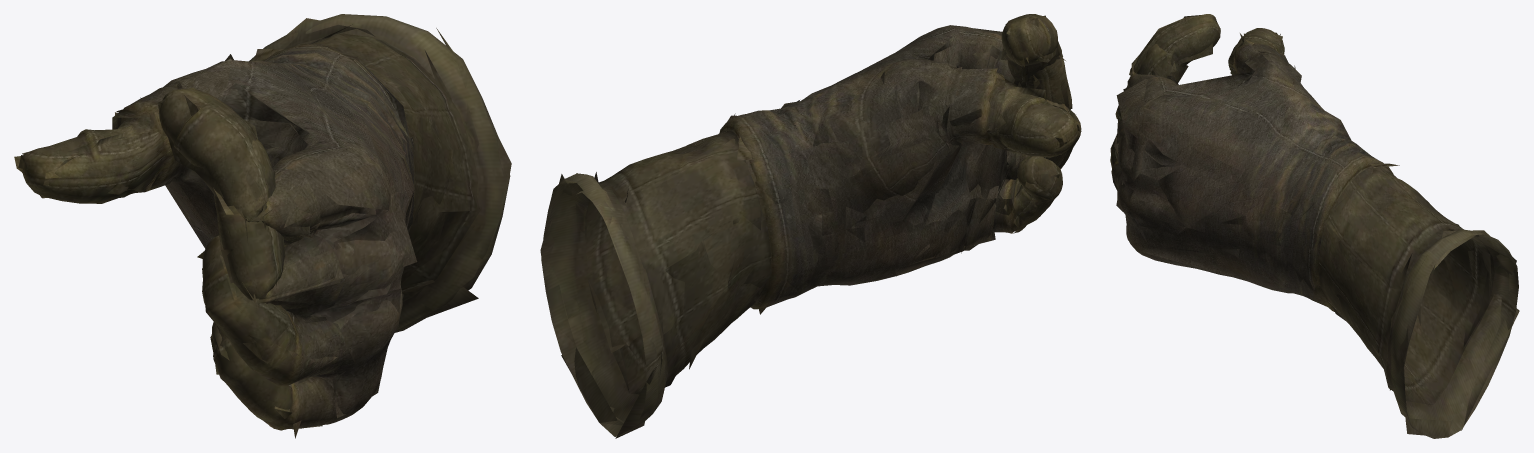
Rendered from BT_Hand_L_Rifle.glb.
3 renders of one model, left to right at view 1: azimuth 30°, elevation 25°; view 2: azimuth 150°, elevation 25°; view 3: azimuth 270°, elevation 25°, orthographic. The views are drawn at different scales.
Parts seen in each view (by area): view 1: BT_Glove_Close, BT_Glove_Far; view 2: BT_Glove_Close, BT_Glove_Far; view 3: BT_Glove_Close, BT_Glove_Far.
Boxes of the visible parts, left/top/right/bottom form: BT_Glove_Close: left=22, top=14, right=510, bottom=430; BT_Glove_Far: left=14, top=18, right=511, bottom=438; BT_Glove_Close: left=541, top=14, right=1081, bottom=436; BT_Glove_Far: left=540, top=15, right=1081, bottom=438; BT_Glove_Close: left=1110, top=14, right=1518, bottom=438; BT_Glove_Far: left=1110, top=15, right=1519, bottom=437.
Bounding box in the file's own units: 0.2035 × 0.1591 × 0.1896.
1 material, 1 textured.
